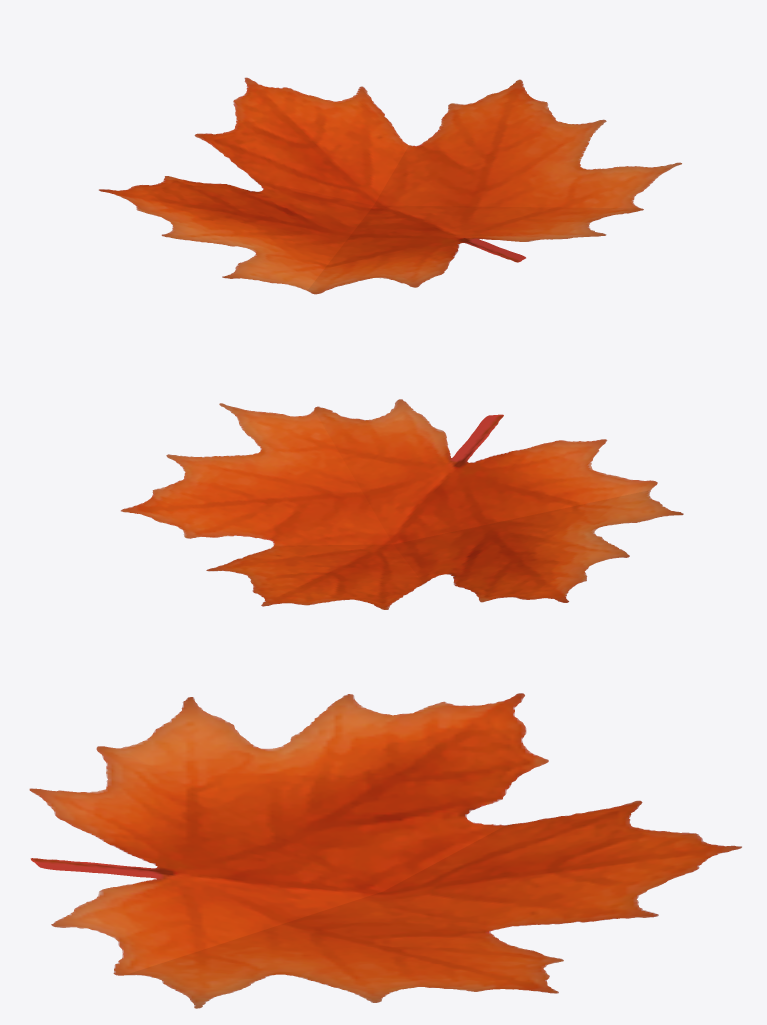
Rendered from FSF_Leaf_03.FBX.
3 views of the same model, one above another, from view 1: azimuth 30°, elevation 25°; view 2: azimuth 150°, elevation 25°; view 3: azimuth 270°, elevation 25° (orthographic). The views are drawn at different scales.
Visible parts, largest first — view 1: FSF_Leaf_03; view 2: FSF_Leaf_03; view 3: FSF_Leaf_03.
Boxes of the visible parts, left/top/right/bottom form: FSF_Leaf_03: left=98, top=77, right=681, bottom=294; FSF_Leaf_03: left=120, top=399, right=683, bottom=609; FSF_Leaf_03: left=29, top=693, right=741, bottom=1008.
Bounding box in the file's own units: 10.76 × 0.7317 × 10.54.
